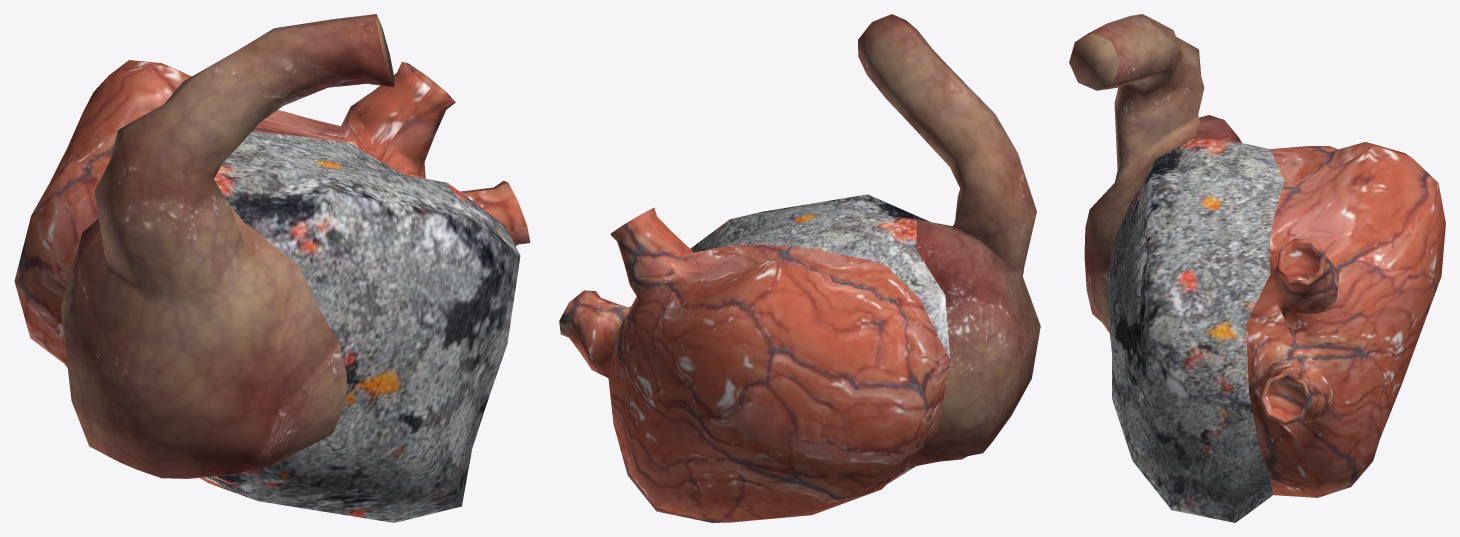
The model's file is Heart_02.fbx.
The picture shows the model from 3 angles, left to right: view 1: azimuth 30°, elevation 25°; view 2: azimuth 150°, elevation 25°; view 3: azimuth 270°, elevation 25°; orthographic projection. The views are drawn at different scales.
Visible parts, largest first — view 1: Box002; view 2: Box002; view 3: Box002.
Part boxes in pixels (x1,y1,x2,y2): Box002: [14, 14, 530, 522]; Box002: [559, 14, 1040, 522]; Box002: [1069, 14, 1445, 522].
Size of the model in its own units: 9.46 by 10.16 by 7.96.
1 material, 1 textured.
